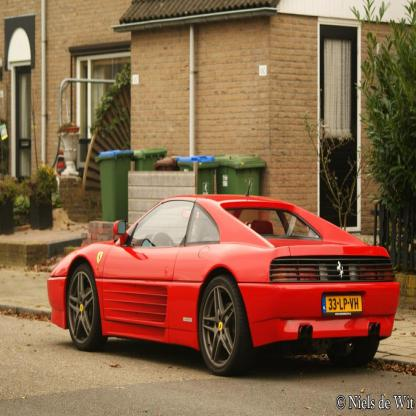Car: (48, 181, 401, 378)
